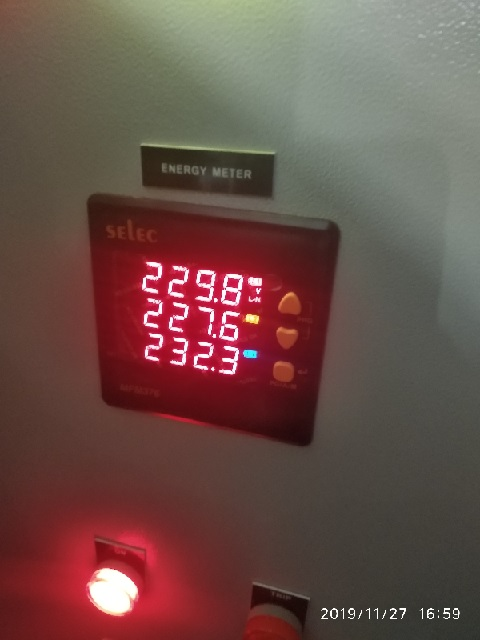Red_Led_On: (79, 560, 147, 622)
